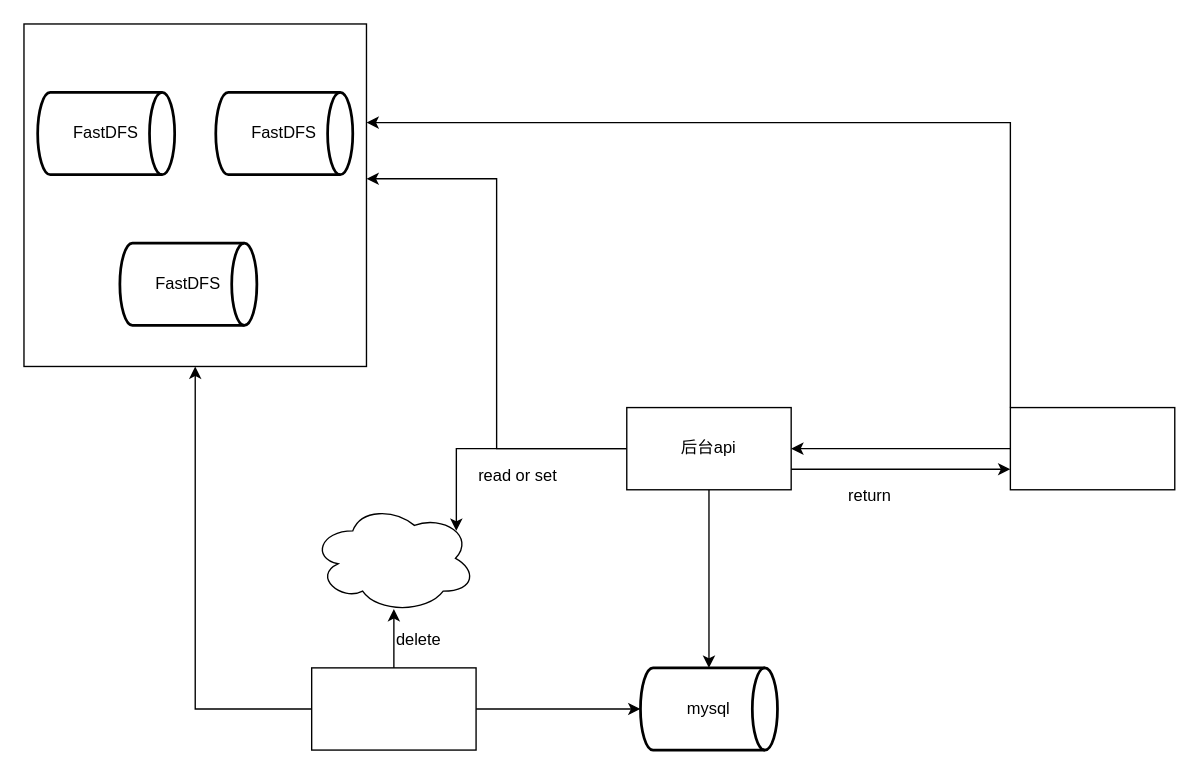
This 1199x775 diagram has some shape labels left out. The centre of each missing label's shape, as x and y in pixels:
"app" goes at (1092,448).
"redis" goes at (393,557).
"管理后台" goes at (393,708).
